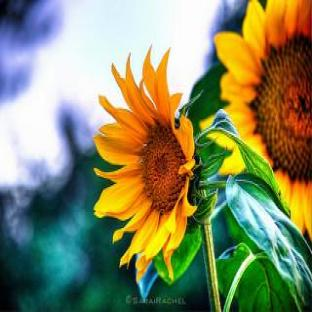sunflower: (93, 47, 202, 281)
